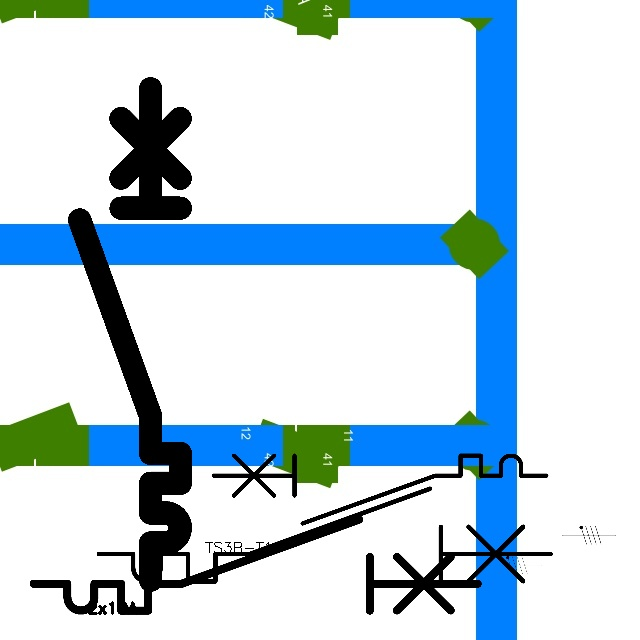interruptor_termomagnetico: (67, 76, 193, 593), (87, 477, 562, 593), (22, 508, 489, 622), (205, 447, 555, 532)
